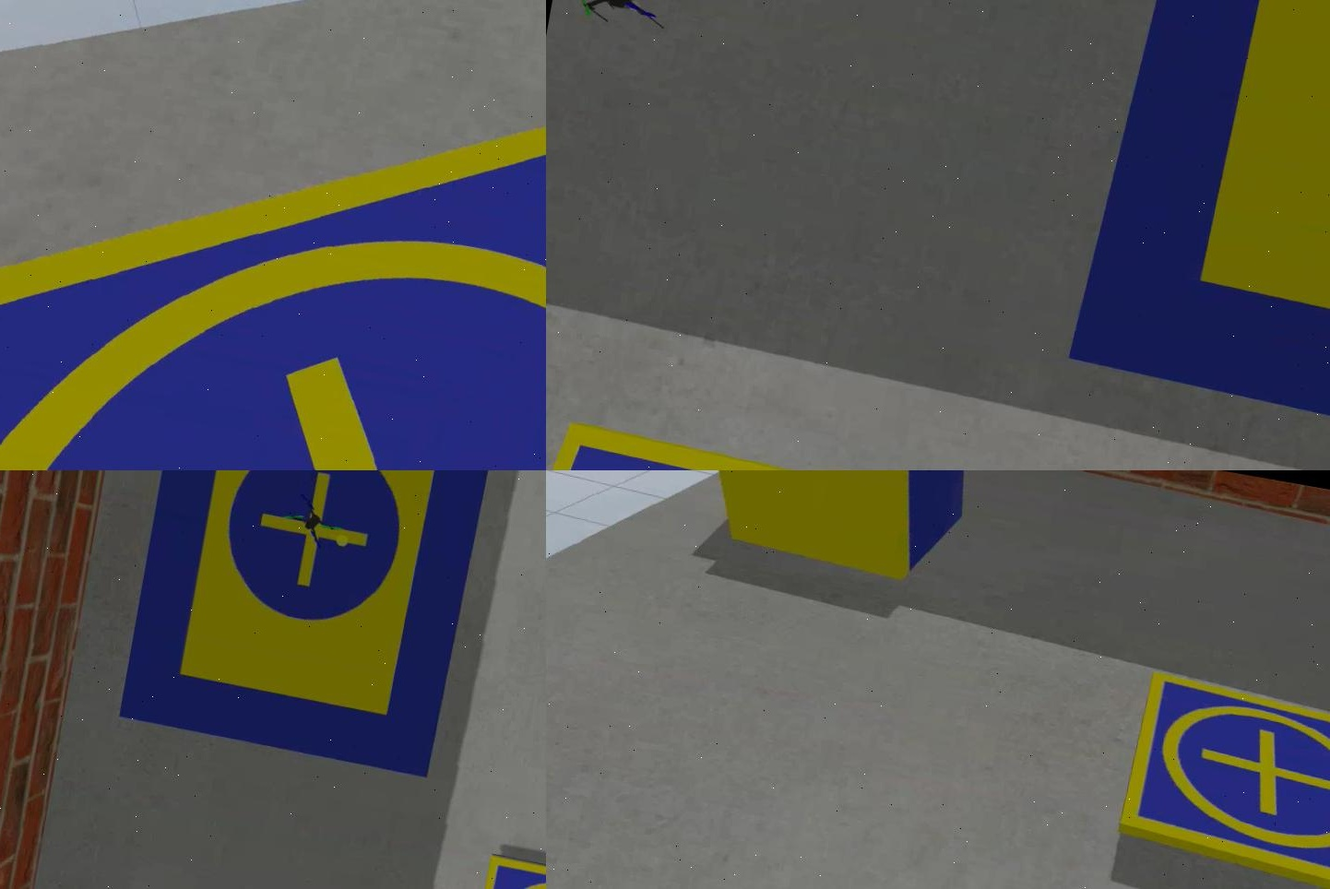large_base: (1061, 1, 1328, 471), (118, 471, 517, 779)
small_base: (0, 1, 545, 471), (1108, 672, 1328, 889)
